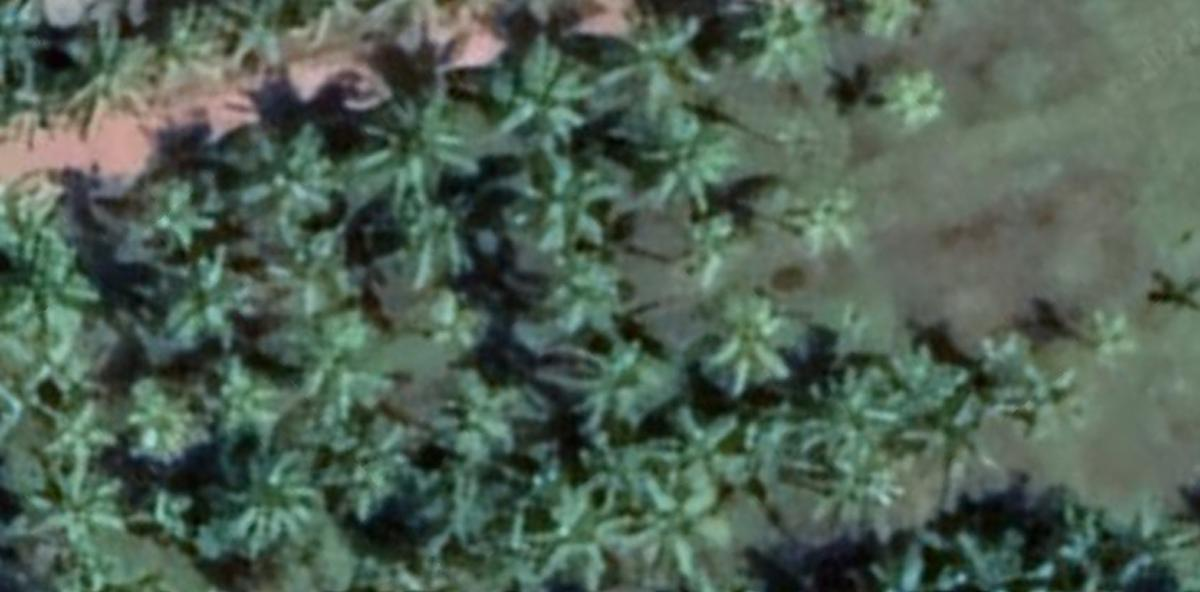coconut: (48, 10, 171, 122), (114, 364, 235, 475), (688, 298, 814, 403), (561, 333, 685, 438), (359, 87, 478, 195), (589, 14, 724, 109), (222, 446, 336, 556), (607, 474, 737, 569), (504, 152, 620, 258), (487, 33, 594, 146), (784, 363, 905, 462), (234, 123, 350, 224), (252, 227, 362, 329), (17, 454, 125, 557), (905, 387, 1010, 489), (638, 113, 751, 206), (168, 238, 270, 337), (135, 163, 238, 254), (4, 241, 97, 340), (724, 1, 834, 84), (194, 349, 290, 444), (806, 445, 903, 535), (1112, 495, 1200, 592), (390, 191, 487, 277), (538, 257, 628, 336), (1000, 360, 1097, 433), (22, 399, 113, 474), (875, 54, 954, 132), (790, 182, 863, 257), (418, 283, 488, 357), (1070, 301, 1139, 359)
